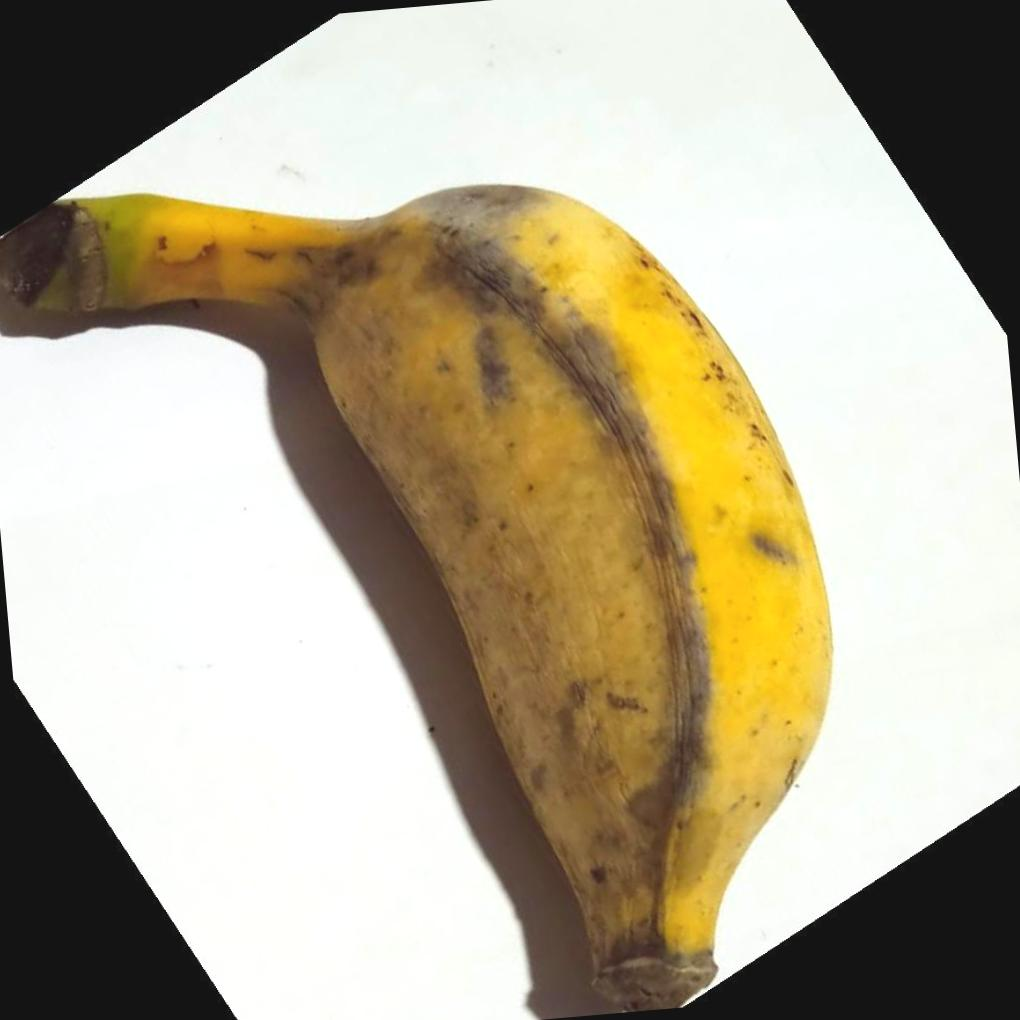Banana Ripe: (94, 133, 904, 1020)
